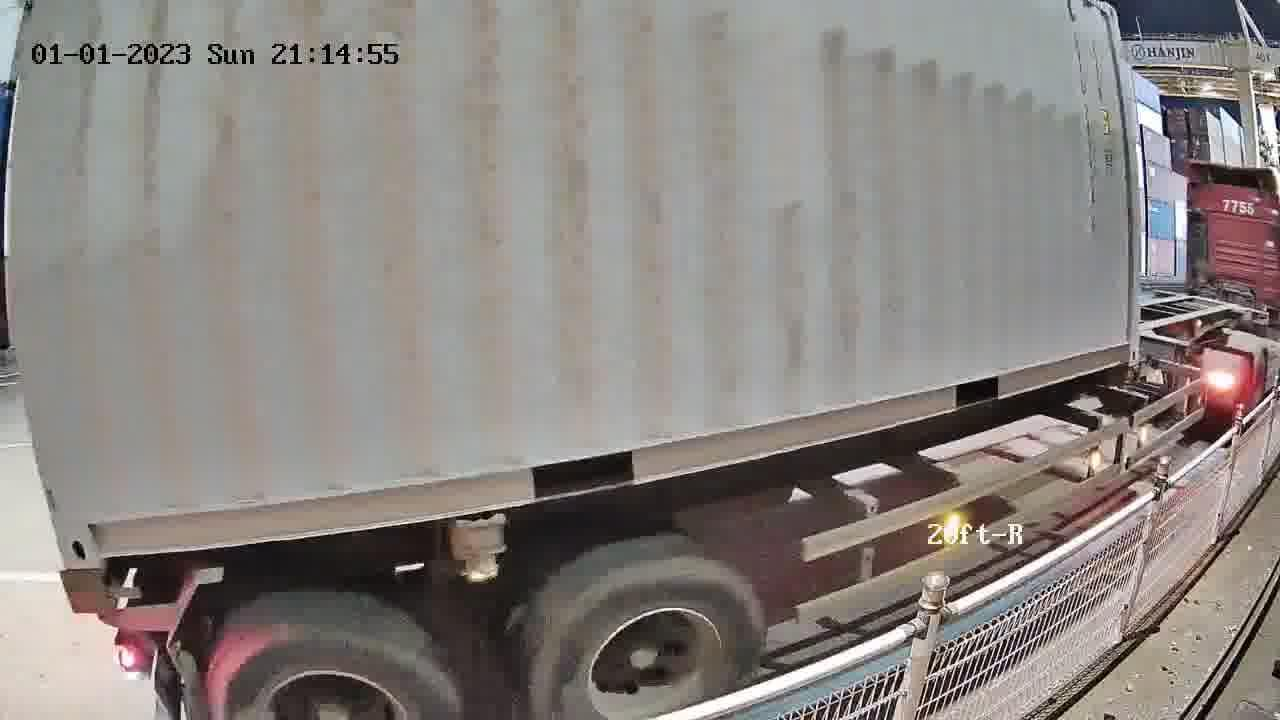Cone: (60, 574, 122, 614)
Hole_L: (48, 493, 149, 571)
Hole_R: (1105, 330, 1140, 368)
Tire: (529, 564, 762, 719), (208, 613, 456, 717)
